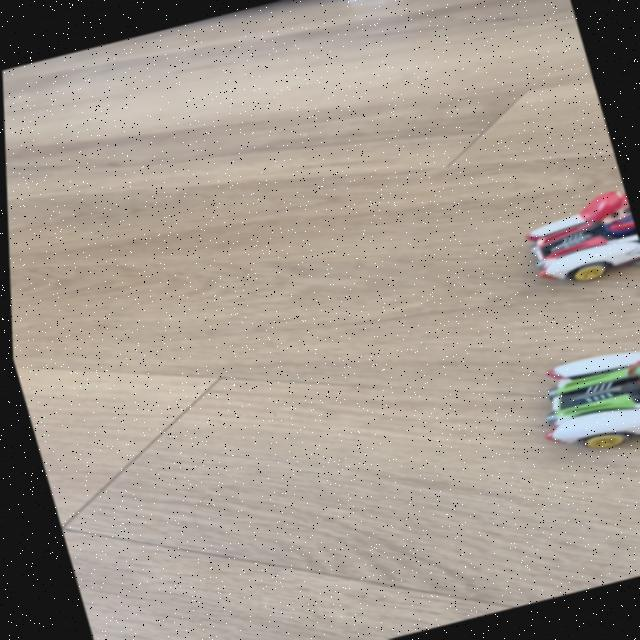mario: (493, 179, 640, 299)
yoshi: (509, 324, 640, 470)
